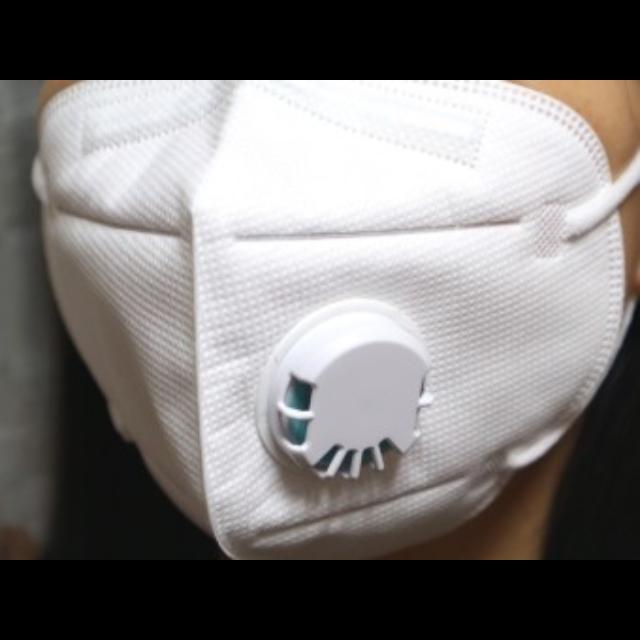masks: (26, 82, 640, 560)
